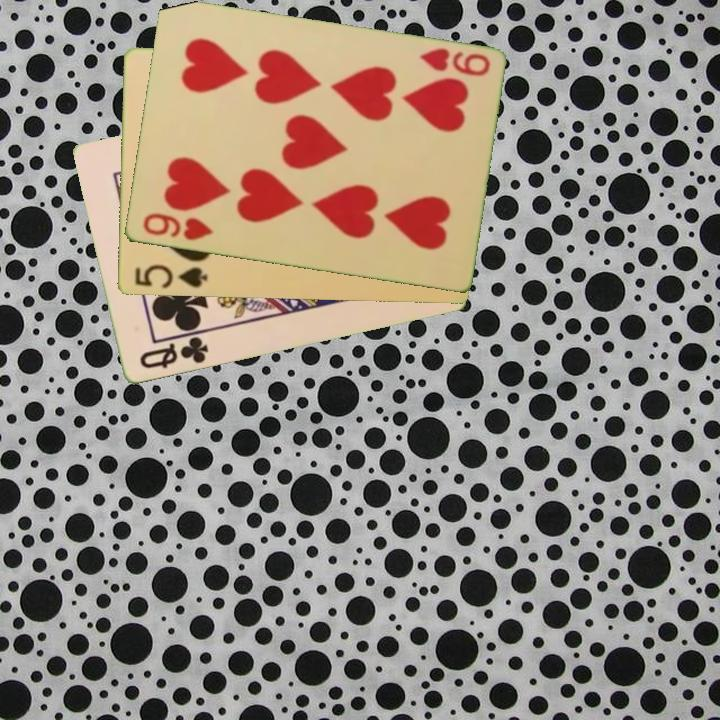5s: (131, 261, 210, 291)
9h: (416, 44, 493, 80), (139, 210, 215, 244)
Qc: (135, 333, 212, 372)
